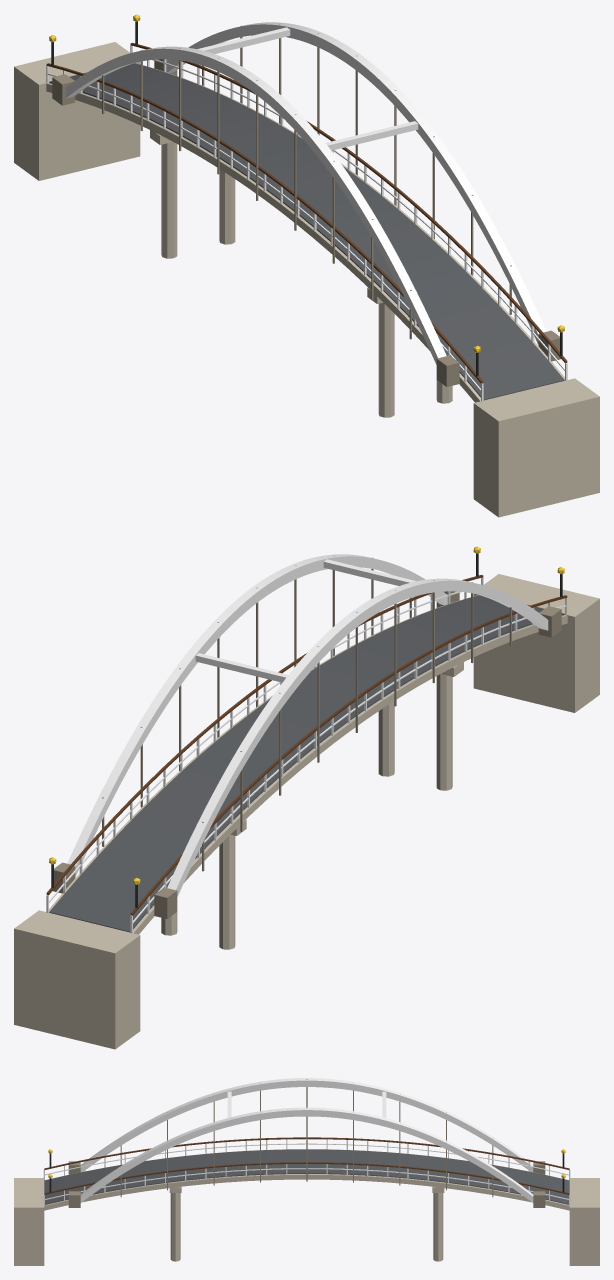
File: footbridge.glb
3 views of the same model, one above another, from view 1: azimuth 30°, elevation 25°; view 2: azimuth 150°, elevation 25°; view 3: azimuth 270°, elevation 25° (orthographic). The views are drawn at different scales.
Parts seen in each view (by area): view 1: Footbridge; view 2: Footbridge; view 3: Footbridge.
Part boxes in pixels (box(x1,y1,x2,y2)): Footbridge: box(14, 14, 599, 517); Footbridge: box(14, 546, 599, 1049); Footbridge: box(14, 1078, 599, 1265).
Bounding box in the file's own units: 7.94 × 17.14 × 58.
